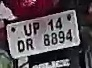1: (47, 19, 55, 32)
4: (65, 30, 76, 42), (55, 18, 64, 30)
8: (50, 33, 61, 45), (43, 33, 51, 47)
9: (58, 30, 67, 44)
D: (15, 39, 25, 55)
P: (32, 20, 40, 35)
R: (24, 39, 36, 51)
U: (23, 22, 33, 37)
